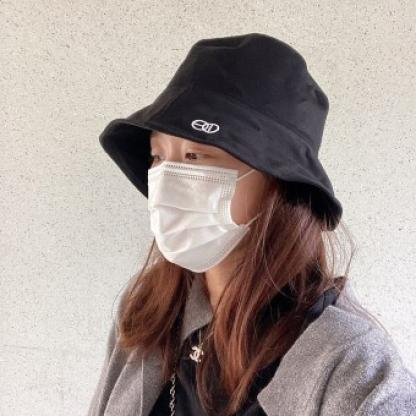hat: (96, 32, 346, 238)
